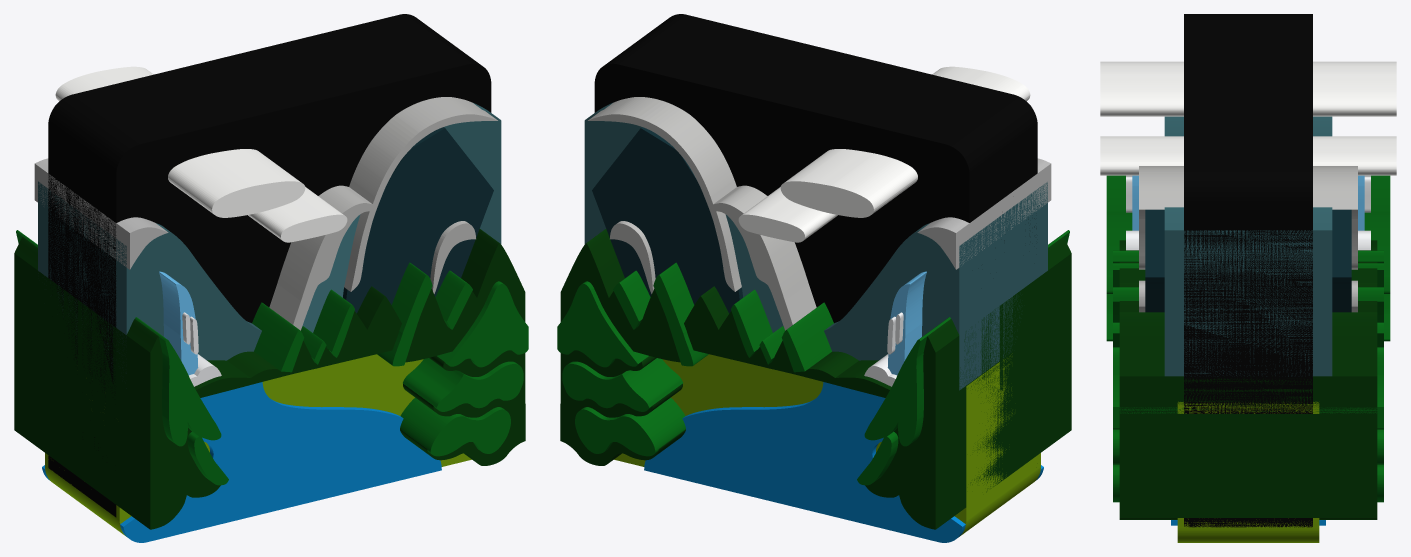
The picture shows the model from 3 angles, left to right: view 1: azimuth 30°, elevation 25°; view 2: azimuth 150°, elevation 25°; view 3: azimuth 270°, elevation 25°; orthographic projection. The views are drawn at different scales.
Parts seen in each view (by area): view 1: U+1F3DE_layer00_obj00, U+1F3DE_layer10_obj00, U+1F3DE_layer02_obj00, U+1F3DE_layer06_obj00, U+1F3DE_layer03_obj00, U+1F3DE_layer07_obj00, U+1F3DE_layer13_obj00, U+1F3DE_layer01_obj00, U+1F3DE_layer10_obj02, U+1F3DE_layer10_obj03, U+1F3DE_layer12_obj00, U+1F3DE_layer11_obj02 (+13 smaller); view 2: U+1F3DE_layer00_obj00, U+1F3DE_layer10_obj00, U+1F3DE_layer02_obj00, U+1F3DE_layer03_obj00, U+1F3DE_layer06_obj00, U+1F3DE_layer01_obj00, U+1F3DE_layer07_obj00, U+1F3DE_layer13_obj00, U+1F3DE_layer10_obj02, U+1F3DE_layer10_obj03, U+1F3DE_layer12_obj00, U+1F3DE_layer11_obj02 (+13 smaller); view 3: U+1F3DE_layer00_obj00, U+1F3DE_layer10_obj01, U+1F3DE_layer03_obj01, U+1F3DE_layer10_obj03, U+1F3DE_layer13_obj00, U+1F3DE_layer13_obj01, U+1F3DE_layer07_obj00, U+1F3DE_layer12_obj00, U+1F3DE_layer06_obj00, U+1F3DE_layer01_obj00, U+1F3DE_layer11_obj03, U+1F3DE_layer10_obj02 (+11 smaller).
Boxes of the visible parts, <box> form: U+1F3DE_layer00_obj00: <box>48,14,491,517</box>; U+1F3DE_layer10_obj00: <box>14,236,220,529</box>; U+1F3DE_layer02_obj00: <box>42,382,441,542</box>; U+1F3DE_layer06_obj00: <box>343,127,493,313</box>; U+1F3DE_layer03_obj00: <box>38,181,261,388</box>; U+1F3DE_layer07_obj00: <box>269,97,497,330</box>; U+1F3DE_layer13_obj00: <box>55,66,305,217</box>; U+1F3DE_layer01_obj00: <box>45,354,471,536</box>; U+1F3DE_layer10_obj02: <box>194,286,413,397</box>; U+1F3DE_layer10_obj03: <box>405,229,525,362</box>; U+1F3DE_layer12_obj00: <box>16,230,228,485</box>; U+1F3DE_layer11_obj02: <box>403,358,523,411</box>; U+1F3DE_layer00_obj00: <box>594,14,1037,323</box>; U+1F3DE_layer10_obj00: <box>865,236,1071,529</box>; U+1F3DE_layer02_obj00: <box>644,382,1043,542</box>; U+1F3DE_layer03_obj00: <box>824,182,1047,390</box>; U+1F3DE_layer06_obj00: <box>592,127,742,313</box>; U+1F3DE_layer01_obj00: <box>614,353,1040,536</box>; U+1F3DE_layer07_obj00: <box>588,97,816,330</box>; U+1F3DE_layer13_obj00: <box>780,66,1030,217</box>; U+1F3DE_layer10_obj02: <box>672,286,891,397</box>; U+1F3DE_layer10_obj03: <box>560,229,680,362</box>; U+1F3DE_layer12_obj00: <box>857,230,1069,485</box>; U+1F3DE_layer11_obj02: <box>562,358,682,411</box>; U+1F3DE_layer00_obj00: <box>1184,14,1312,527</box>; U+1F3DE_layer10_obj01: <box>1119,414,1377,519</box>; U+1F3DE_layer03_obj01: <box>1164,207,1332,376</box>; U+1F3DE_layer10_obj03: <box>1119,301,1377,413</box>; U+1F3DE_layer13_obj00: <box>1100,61,1396,116</box>; U+1F3DE_layer13_obj01: <box>1100,136,1396,175</box>; U+1F3DE_layer07_obj00: <box>1139,166,1357,269</box>; U+1F3DE_layer12_obj00: <box>1106,175,1390,341</box>; U+1F3DE_layer06_obj00: <box>1145,209,1351,312</box>; U+1F3DE_layer01_obj00: <box>1177,401,1319,542</box>; U+1F3DE_layer11_obj03: <box>1113,347,1383,429</box>; U+1F3DE_layer10_obj02: <box>1119,240,1377,287</box>.
Bounding box in the file's own units: 0.3186 × 0.3189 × 0.23.
